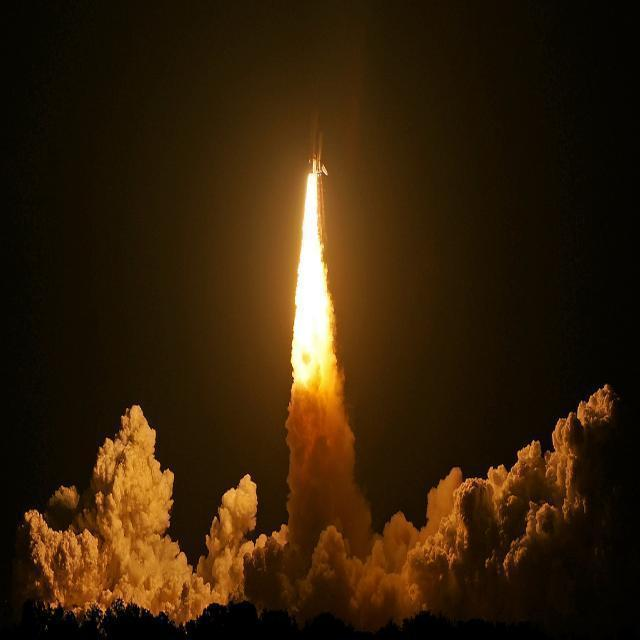missile: (309, 111, 326, 175)
